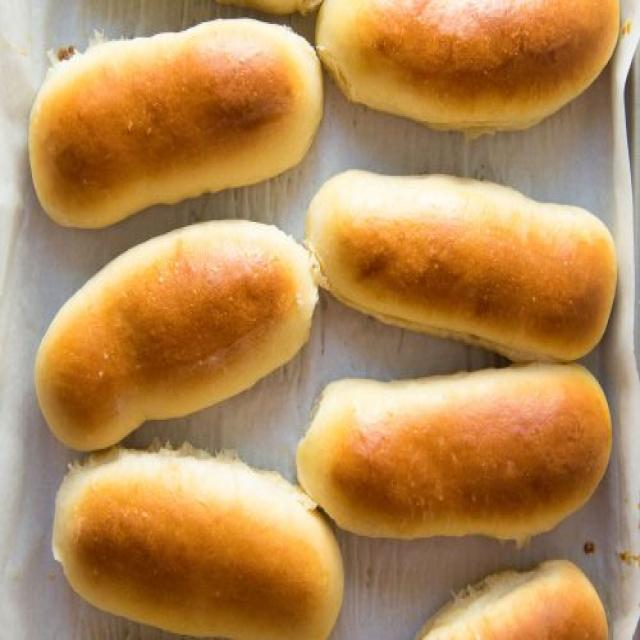Bun: (29, 210, 324, 454), (28, 19, 328, 234), (304, 162, 620, 362), (51, 432, 347, 640), (295, 358, 613, 541), (316, 0, 632, 138), (417, 553, 612, 640)
